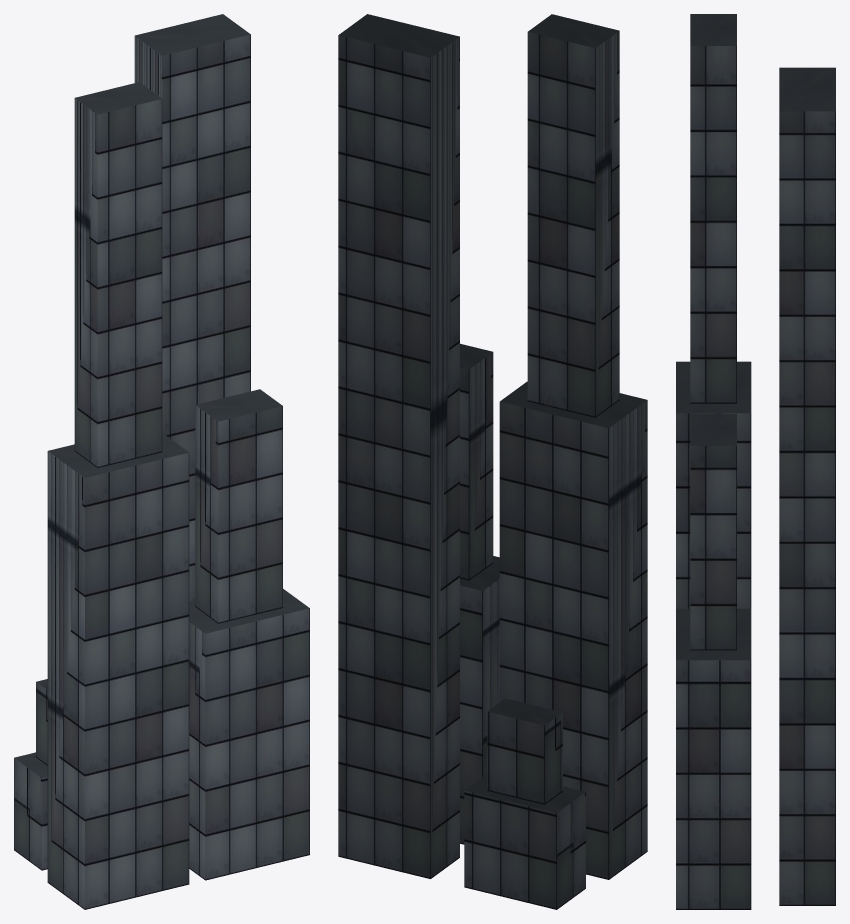
File: city_block_12345_6_02.glb
The picture shows the model from 3 angles, left to right: view 1: azimuth 30°, elevation 25°; view 2: azimuth 150°, elevation 25°; view 3: azimuth 270°, elevation 25°; orthographic projection. The views are drawn at different scales.
Visible parts, largest first — view 1: block_02; view 2: block_02; view 3: block_02.
Part boxes in pixels (x1=…): block_02: x1=14, y1=14, x2=309, y2=909; block_02: x1=338, y1=14, x2=647, y2=909; block_02: x1=676, y1=14, x2=835, y2=909.
Bounding box in the file's own units: 4.2 × 14 × 2.55.
Materials: 4 (4 with a texture image).
